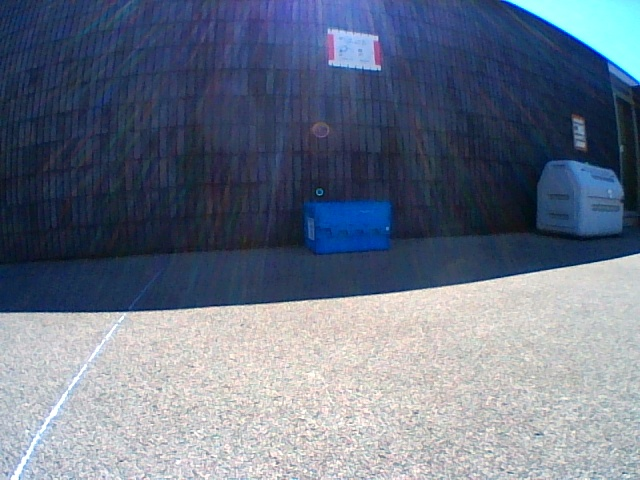blue_box: (304, 200, 389, 253)
tag: (308, 220, 313, 238)
